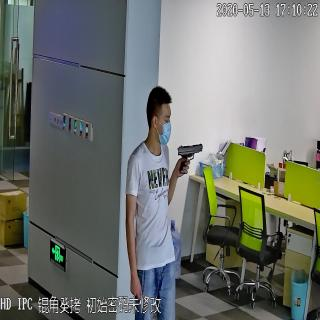gun: (173, 137, 202, 175)
